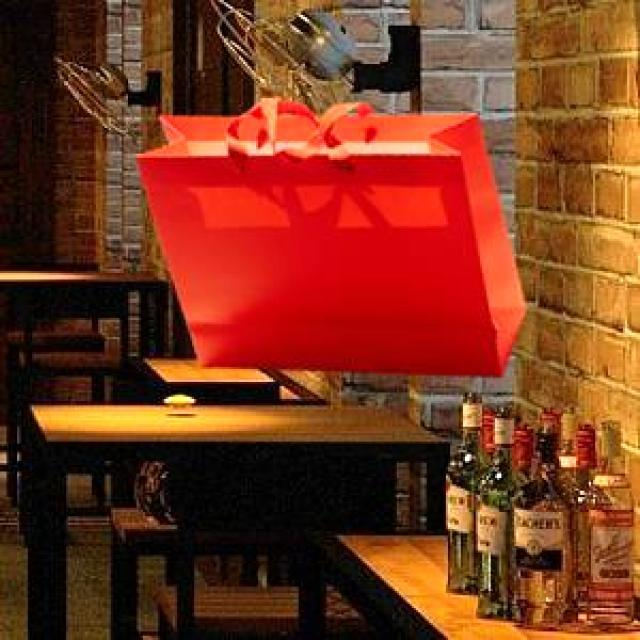Paper_Bag: (131, 94, 522, 374)
